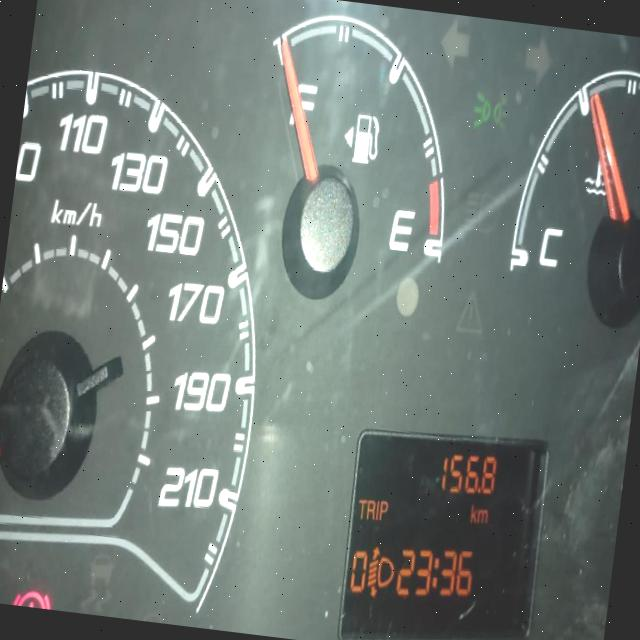odometer: (330, 415, 555, 640)
